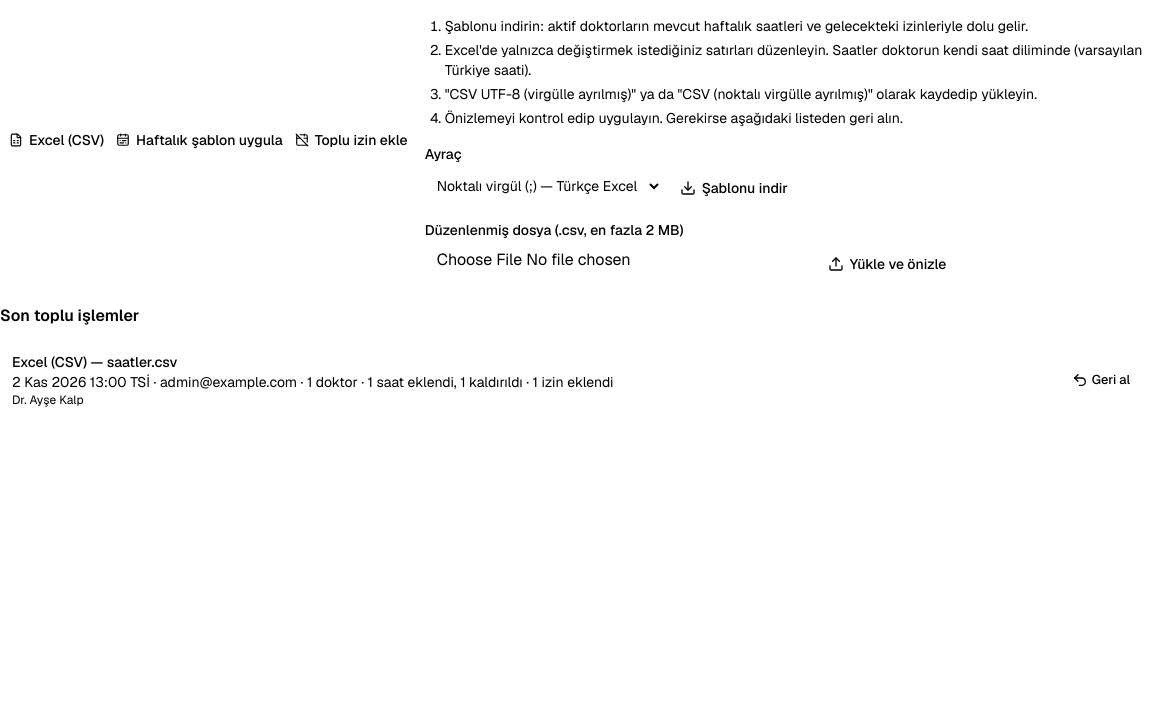
Paket Q — toplu çalışma saati/izin paneli › geri alma engellenirse değişen kayıtlar listelenir
Click the button "Geri al": (1101, 380) [1062,366,1140,394]
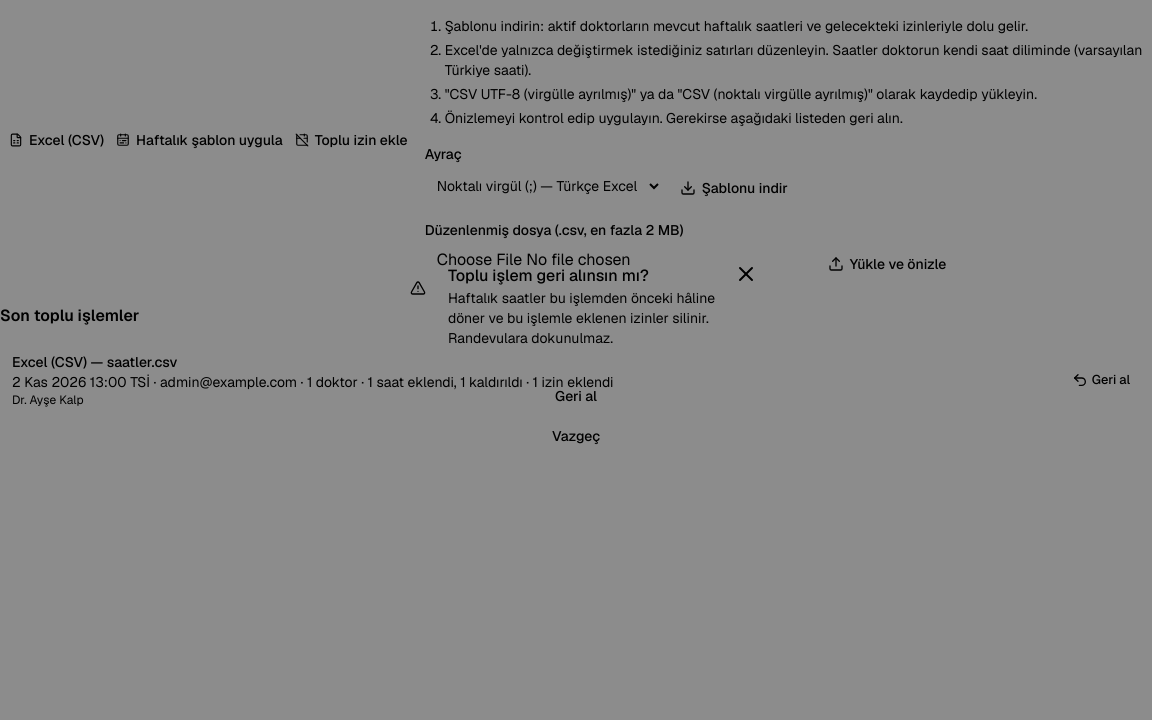
Click the button "Geri al": (576, 396) [400,380,752,412]
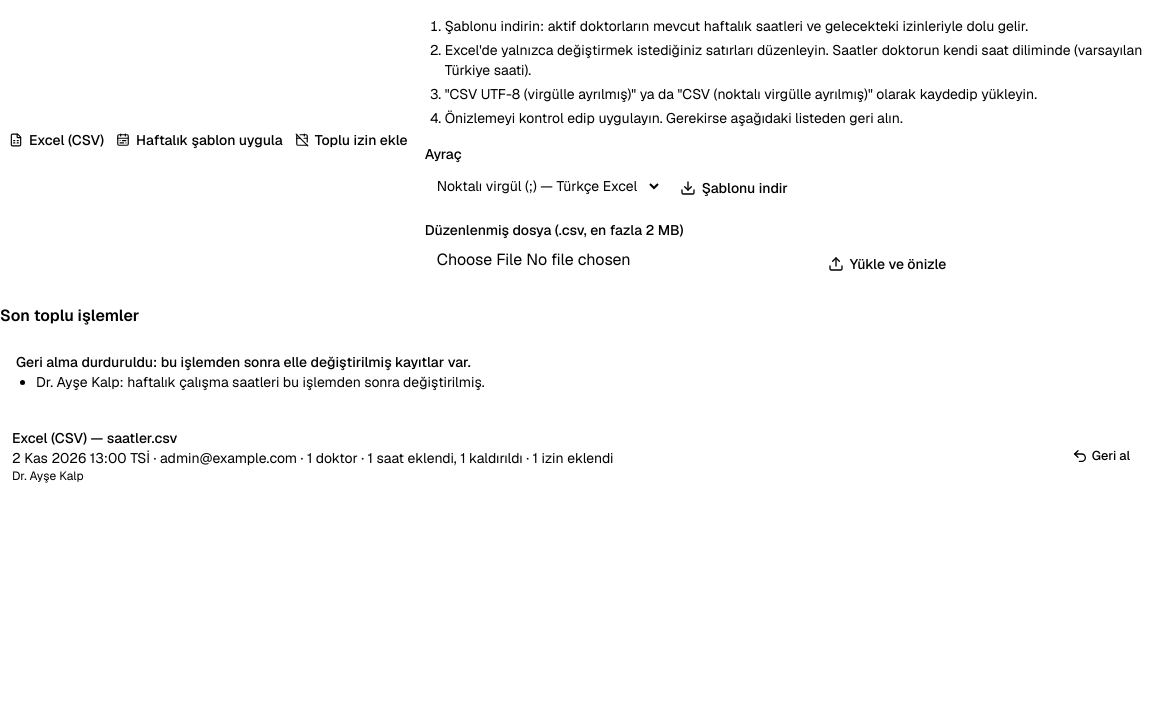
Expected: the text "Geri alma durduruldu" is shown, [16,353,471,371]
Expected: the list item "haftalık çalışma saatleri bu işlemden sonra değiştirilmiş" is shown, [36,373,484,391]
